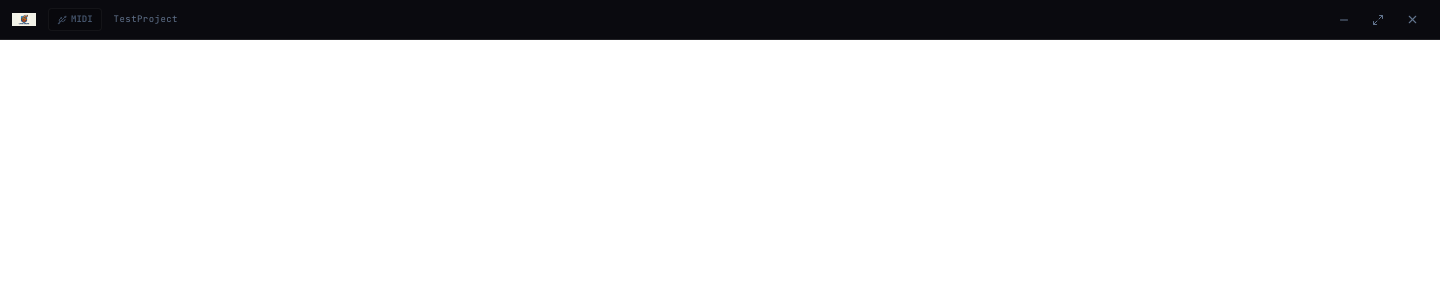
Test case: DesktopTitlebar › clicking MIDI button again closes the panel
What coordinates should you click on to do the following:
click the button "MIDI"
I would click on:
 (75, 20)
Its box is [48, 8, 102, 31].
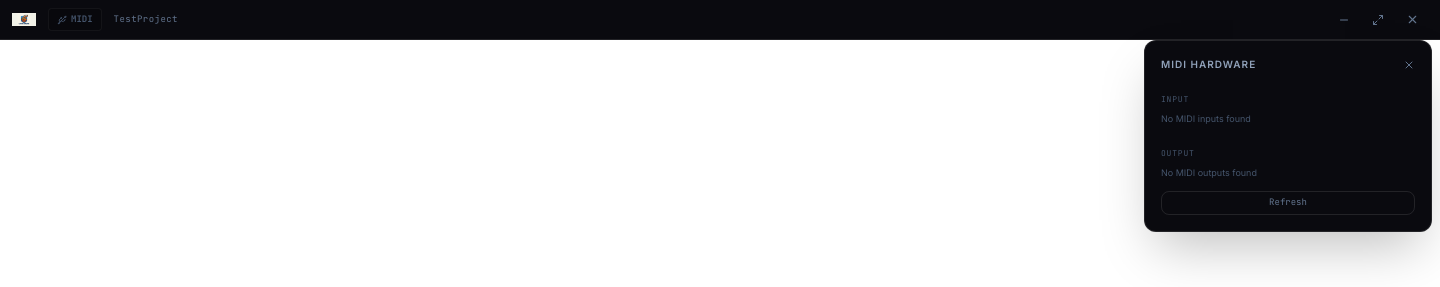
Check: the heading "MIDI Hardware" is shown, box [1161, 57, 1256, 72]
What coordinates should you click on to do the following:
click the button "MIDI"
I would click on:
 (75, 20)
Its box is [48, 8, 102, 31].
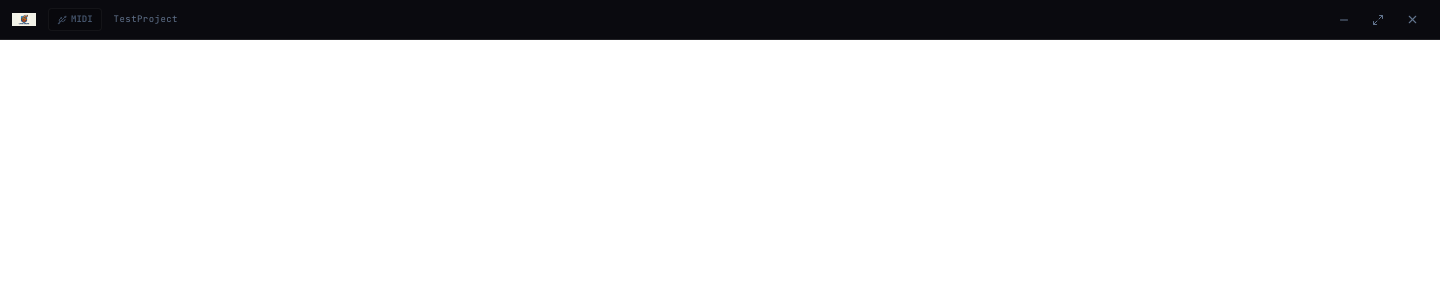
Check: the text "Input" is gone
